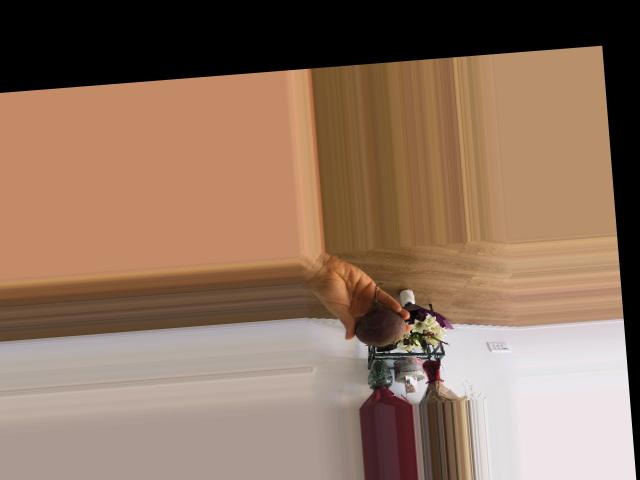beet: (351, 280, 408, 353)
